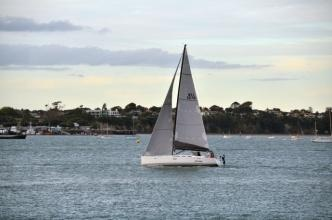fanchuan: (134, 43, 230, 166)
